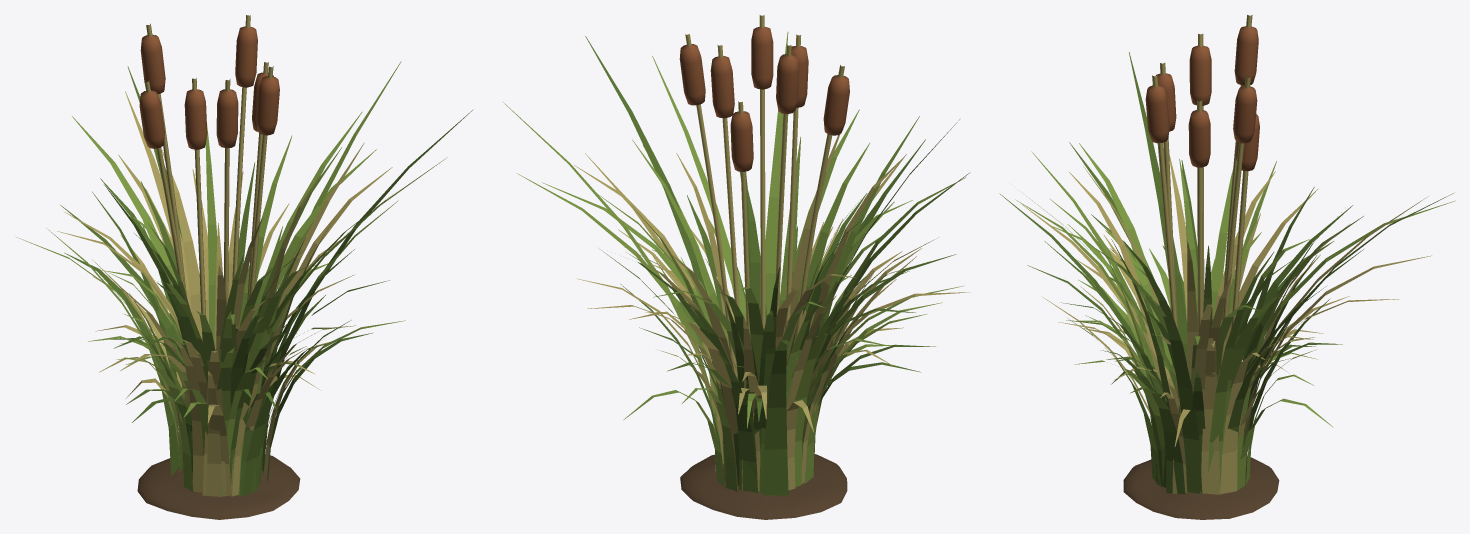
File: detail_reed_cluster.glb
3 renders of one model, left to right at view 1: azimuth 30°, elevation 25°; view 2: azimuth 150°, elevation 25°; view 3: azimuth 270°, elevation 25°, orthographic. The views are drawn at different scales.
Parts seen in each view (by area): view 1: straw, cloth; view 2: straw, cloth; view 3: straw, cloth.
Boxes of the visible parts, x1,y1,x2,y2 form: straw: (16,15,473,519); cloth: (139,26,279,149); straw: (502,15,970,519); cloth: (679,27,849,171); straw: (999,15,1455,519); cloth: (1145,26,1259,171).
Bounding box in the file's own units: 1.2 × 1.3 × 1.2.
